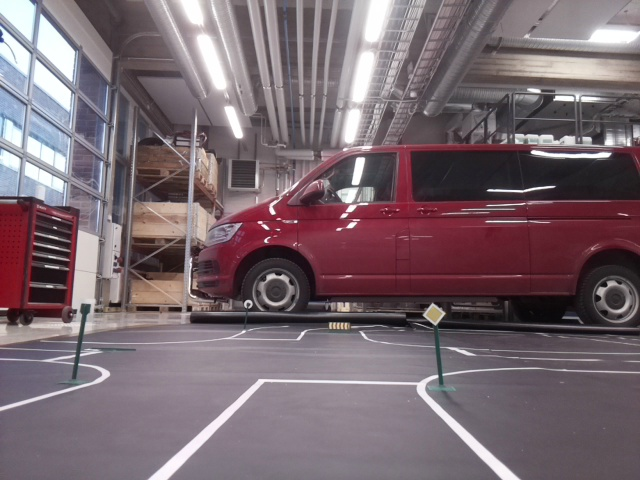Priority: (422, 301, 444, 323)
